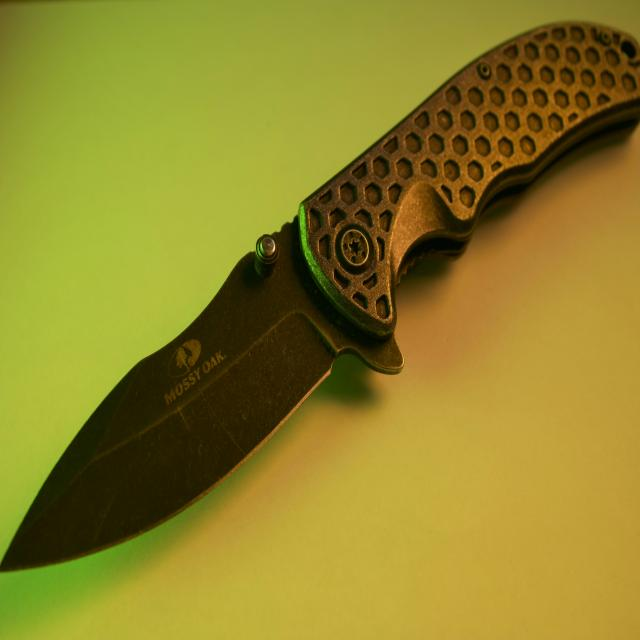knife: (0, 20, 638, 571)
